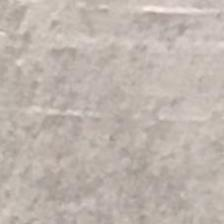Non_Crack: (17, 28, 206, 188)
